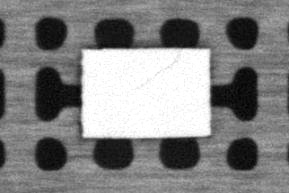DIE_CRACK: (130, 55, 183, 87)
